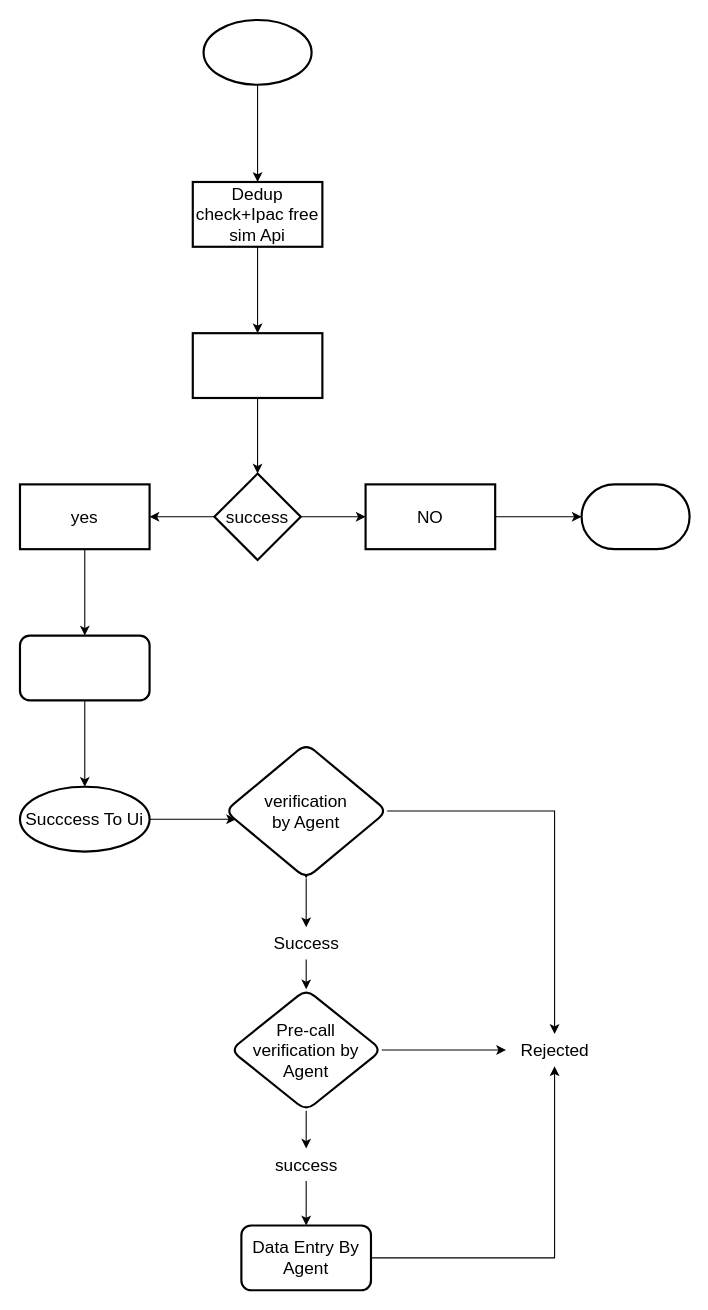
This 708x1310 diagram has some shape labels left out. The shapes that lost their labels are listed below. From the top down, each one's centre as x and y in pixels, then its label:
(x=257, y=51): Start
(x=257, y=365): Submit from App
(x=635, y=516): END
(x=84, y=667): LCD FLOW
